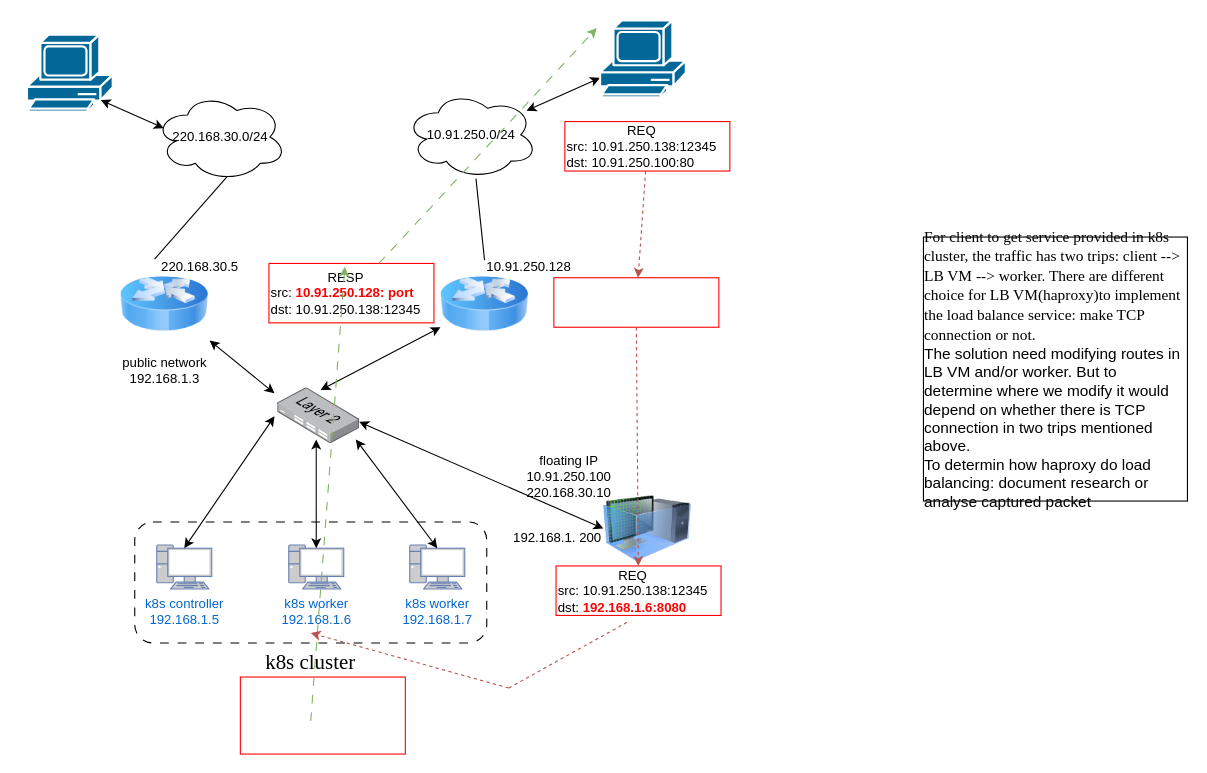
Some shapes in this 1207 by 773 pixel diagram are drawn without their labels. Each missing label, with the centre of its shape:
corp network 192.168.1.1: the point at 484,304
corporate client PC: the point at 642,58
Internet client PC: the point at 69,72
LoadBalancer VM balance traffic to k8s worker machine: the point at 647,528
REQ src: 10.91.250.138:12345 dst: 192.168.1.200:80: the point at 636,302
RESP doesn't go thru LB VM src: 192.168.1.6:8080 dst: 10.91.250.138:12345: the point at 322,715
